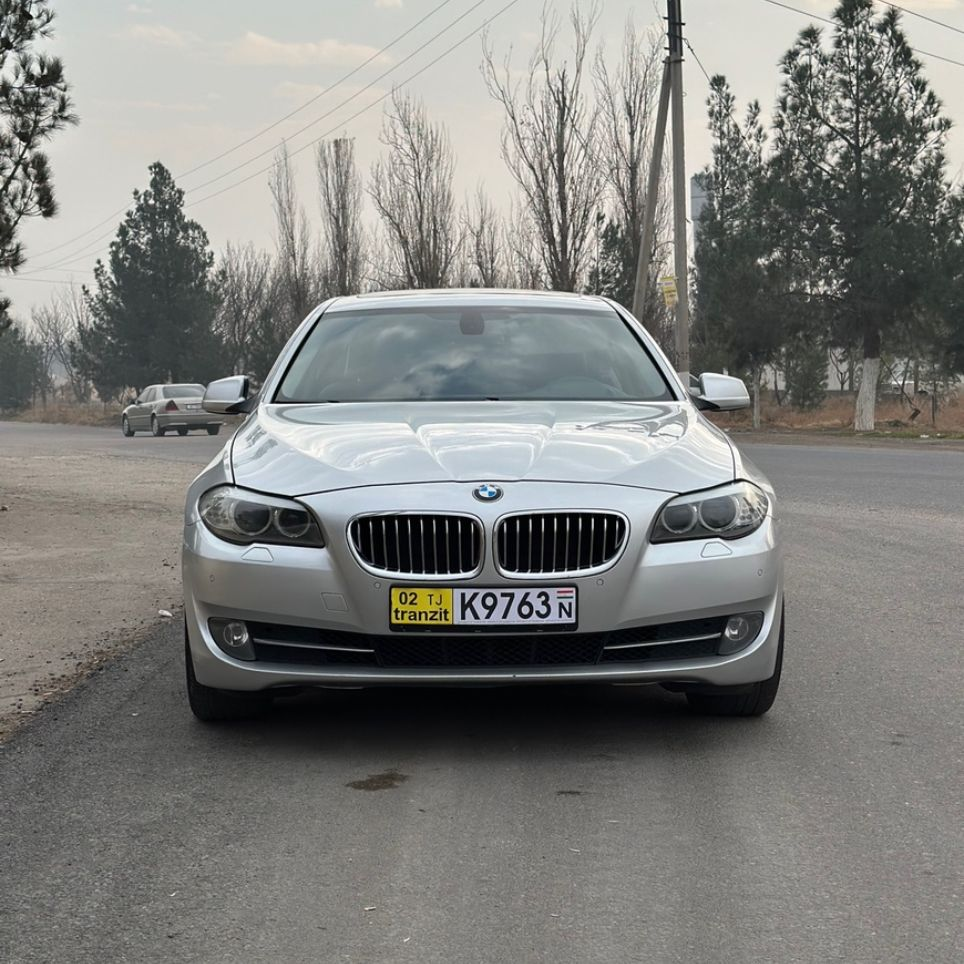license plate: (388, 583, 579, 629)
truck: (162, 275, 786, 733)
